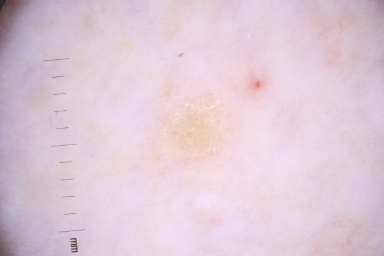nevus: (156, 93, 232, 157)
